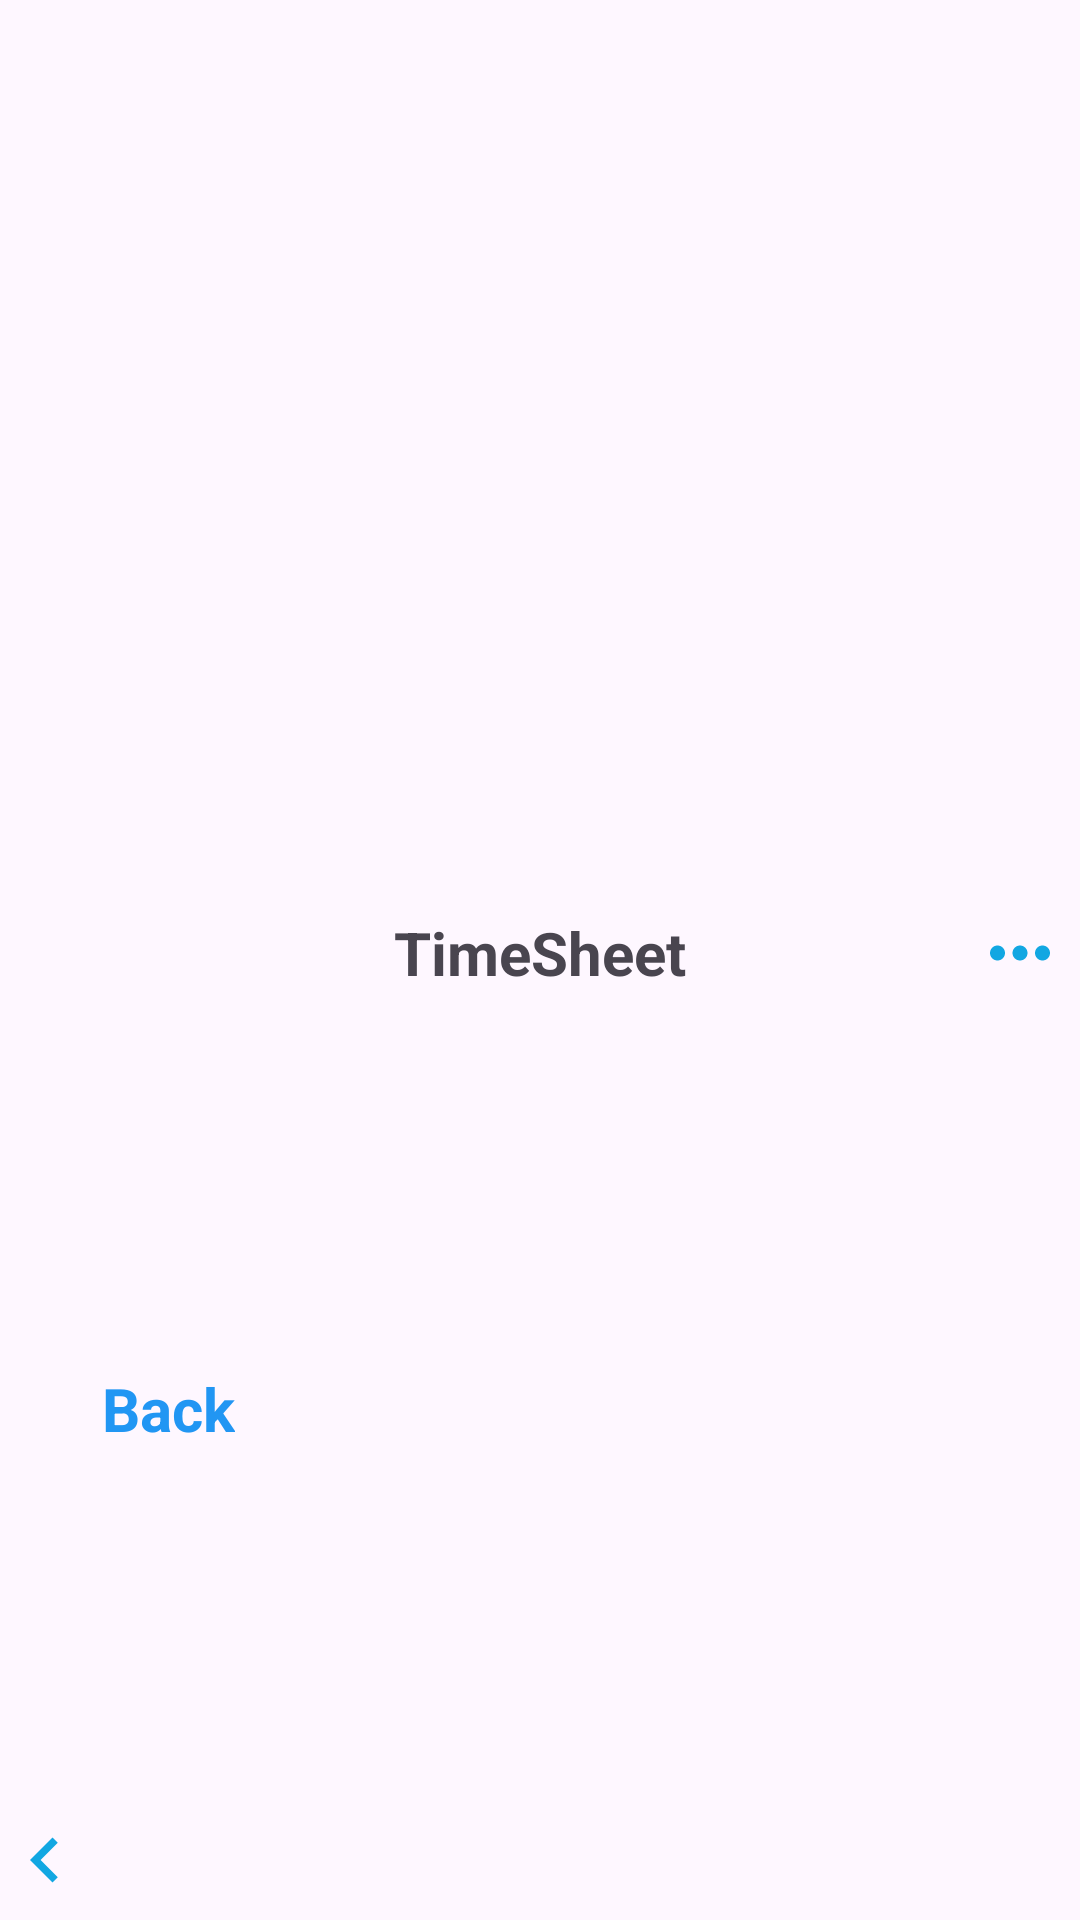

Named icons in this screenshot (1080x1920) and their bounding boxes, (left=x1, top=y1, right=x2, bottom=y2):
more horiz: (left=990, top=945, right=1050, bottom=961)
navigate before: (left=30, top=1837, right=58, bottom=1883)
